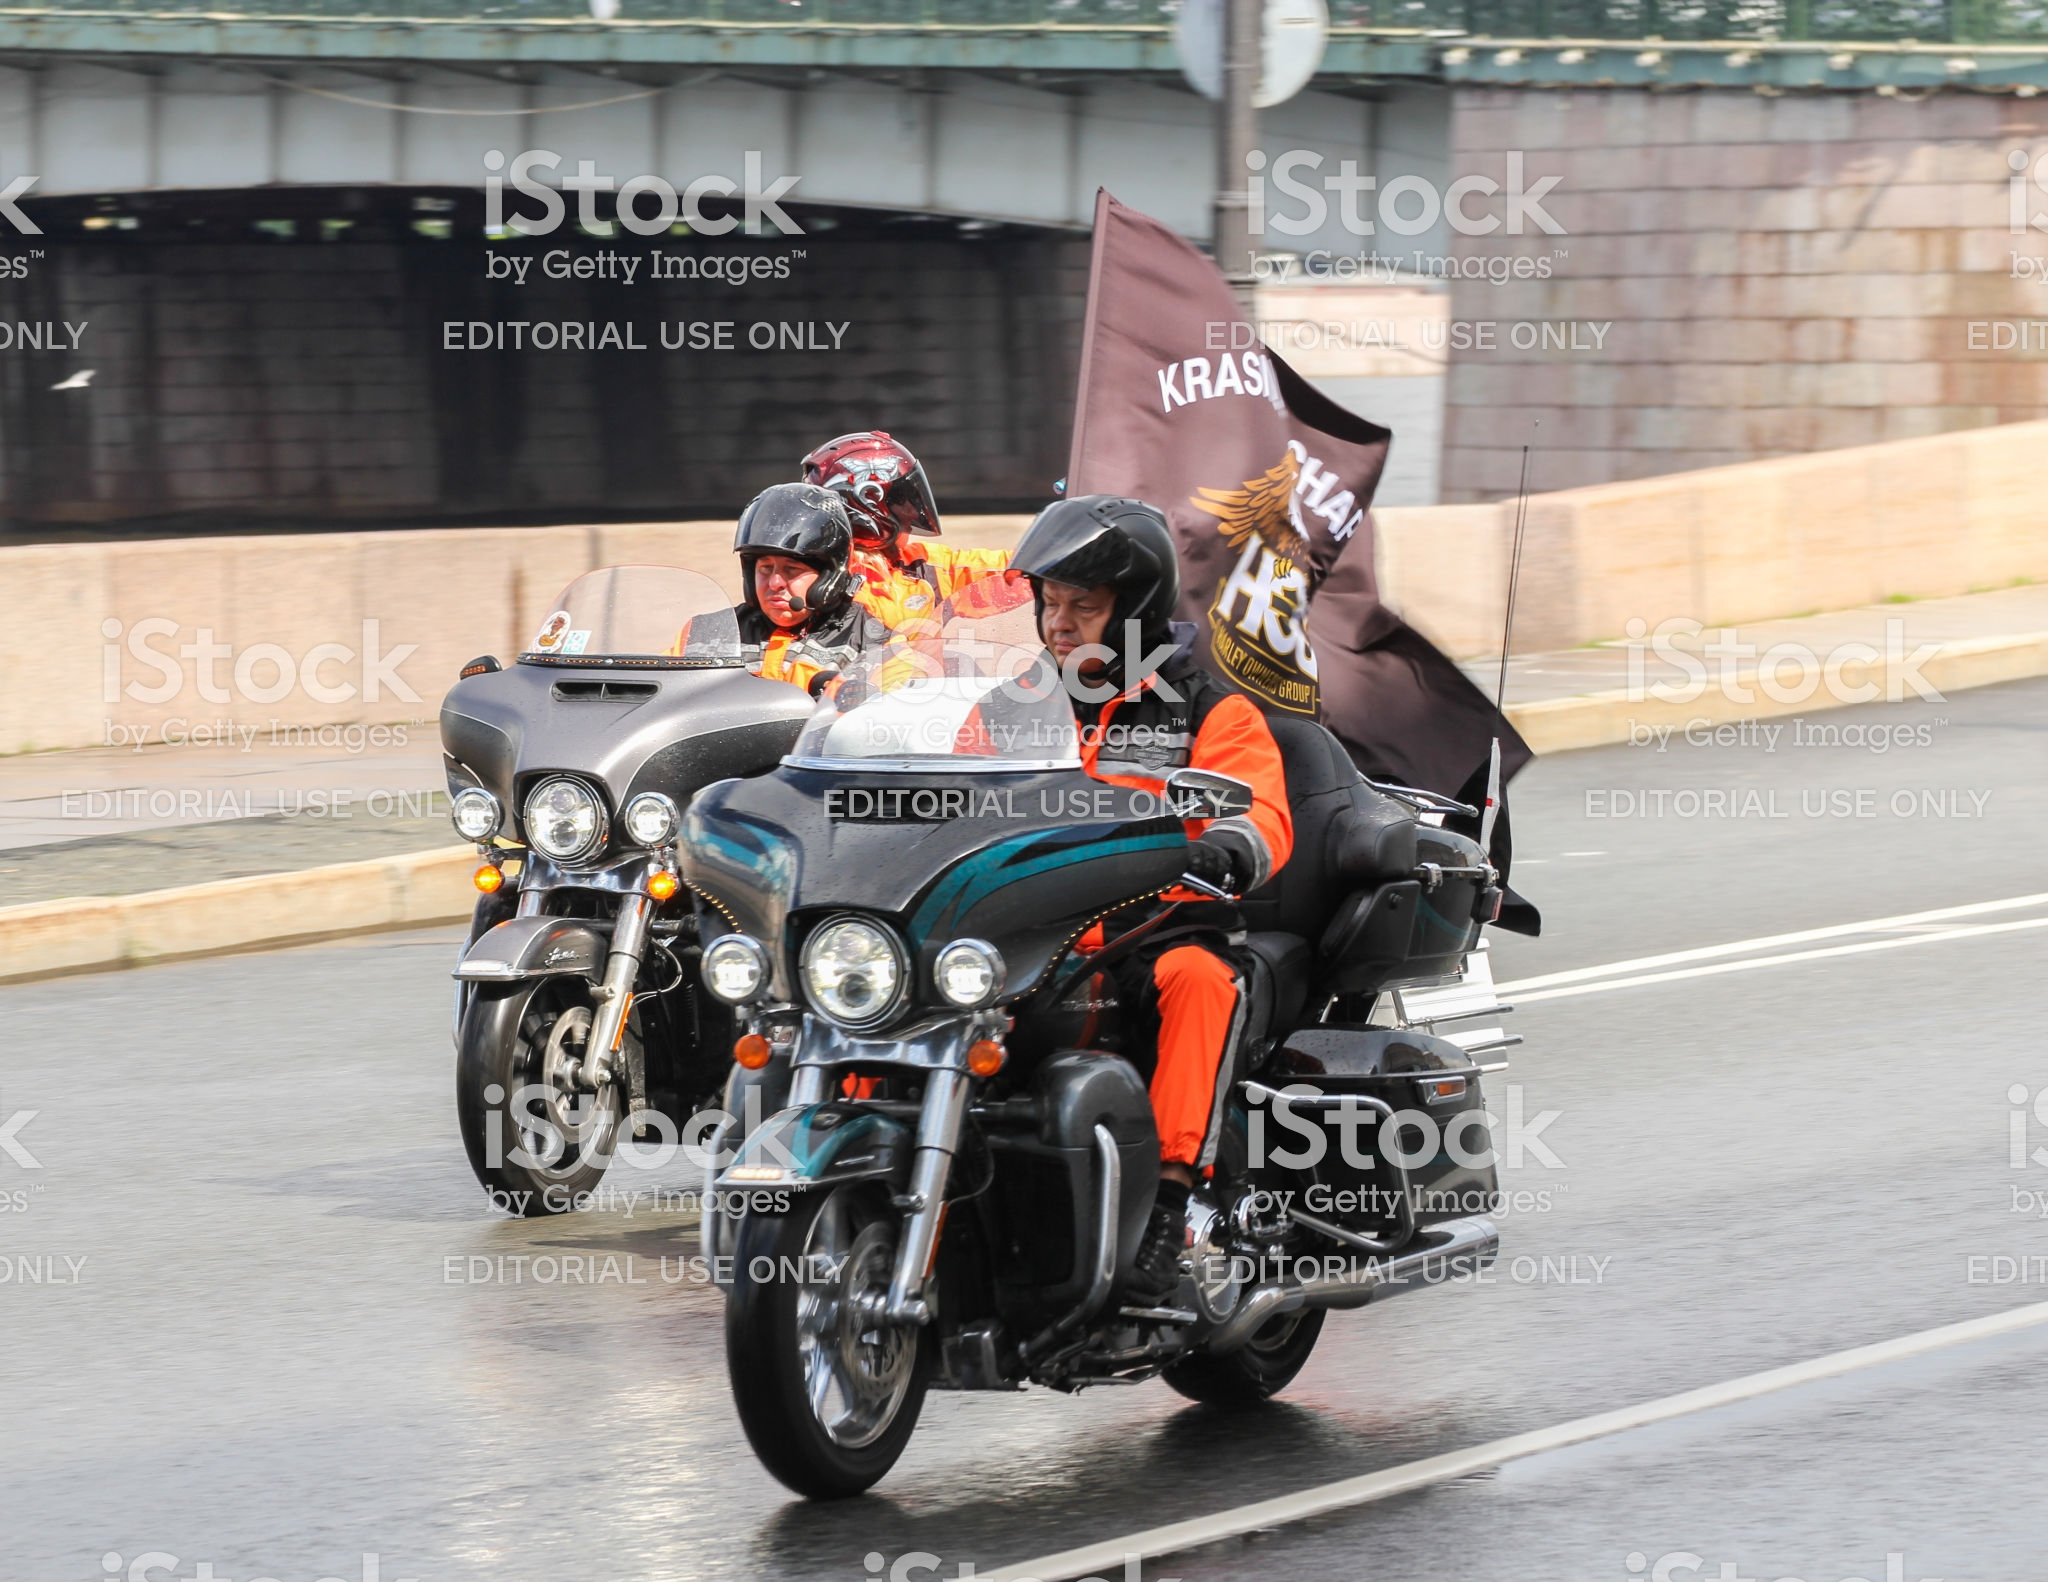helmet: (1022, 495, 1179, 628), (804, 429, 938, 533), (737, 489, 870, 583)
